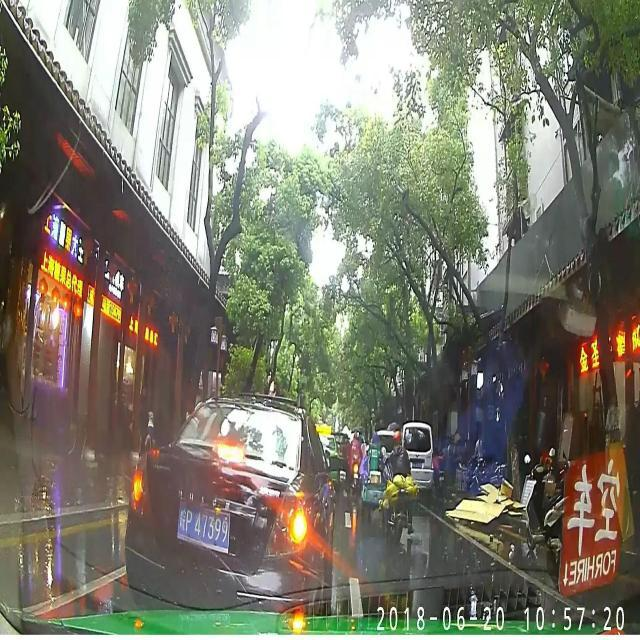car: (125, 396, 332, 606), (402, 420, 432, 494), (316, 425, 338, 494)
